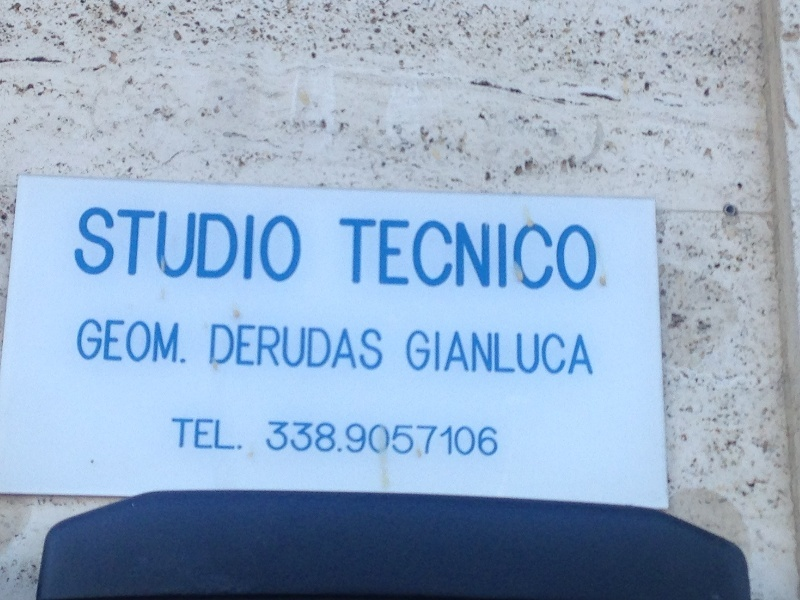text: (81, 204, 96, 287), (97, 204, 112, 287), (113, 204, 128, 287), (129, 204, 144, 287), (145, 204, 160, 287), (161, 204, 176, 287), (177, 204, 192, 287), (193, 204, 208, 287), (209, 204, 224, 287), (225, 204, 240, 287), (241, 204, 256, 287), (257, 204, 272, 287), (273, 204, 288, 287), (289, 204, 303, 287), (353, 218, 368, 293), (369, 218, 384, 293), (385, 218, 400, 293), (401, 218, 416, 293), (417, 218, 432, 293), (433, 218, 448, 293), (449, 218, 464, 293), (465, 218, 480, 293), (481, 218, 496, 293), (497, 218, 512, 293), (513, 218, 528, 293), (529, 218, 544, 293), (545, 218, 560, 293), (561, 218, 576, 293), (577, 218, 592, 293), (340, 218, 352, 293), (81, 315, 96, 370), (97, 315, 112, 370), (113, 315, 128, 370), (129, 315, 144, 370), (145, 315, 160, 370), (161, 315, 176, 370), (225, 323, 240, 373), (241, 323, 256, 373), (257, 323, 272, 373), (273, 323, 288, 373), (289, 323, 304, 373), (305, 323, 320, 373), (321, 323, 336, 373), (337, 323, 352, 373), (353, 323, 368, 373), (369, 323, 384, 373), (417, 331, 432, 376), (433, 331, 448, 376), (449, 331, 464, 376), (465, 331, 480, 376), (481, 331, 496, 376), (497, 331, 512, 376), (513, 331, 528, 376), (529, 331, 544, 376), (545, 331, 560, 376), (561, 331, 576, 376), (577, 331, 592, 376), (211, 323, 224, 373), (177, 315, 188, 370), (273, 420, 288, 460), (289, 420, 304, 460), (305, 420, 320, 460), (321, 420, 336, 460), (337, 420, 352, 460), (353, 420, 368, 460), (369, 420, 384, 460), (385, 420, 400, 460), (401, 420, 416, 460), (417, 420, 432, 460), (433, 420, 448, 460), (449, 420, 464, 460), (465, 420, 480, 460), (481, 420, 496, 460), (177, 416, 192, 455), (193, 416, 208, 455), (209, 416, 224, 455), (225, 416, 240, 455), (593, 218, 598, 293), (408, 331, 416, 376), (267, 420, 272, 460), (593, 331, 597, 376), (172, 416, 176, 455), (241, 416, 245, 455), (497, 420, 500, 460)
